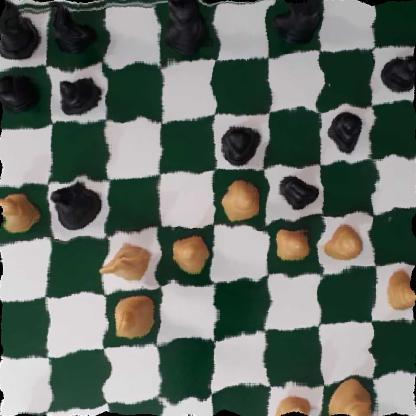black-bishop: (55, 180, 102, 231)
black-king: (165, 0, 214, 60)
black-knight: (44, 0, 95, 52)
black-pawn: (0, 66, 42, 118), (218, 120, 262, 167), (54, 74, 103, 115), (275, 168, 315, 211), (382, 49, 416, 97), (328, 113, 364, 152)
black-rook: (0, 0, 41, 60), (275, 0, 320, 46)
white-bishop: (112, 294, 157, 342)
white-king: (328, 379, 375, 416)
white-knight: (101, 237, 151, 288)
white-pawn: (216, 176, 261, 226), (271, 218, 312, 264), (168, 231, 208, 276), (326, 219, 364, 264), (381, 268, 416, 316), (0, 190, 37, 232)
white-rook: (275, 389, 320, 416)
